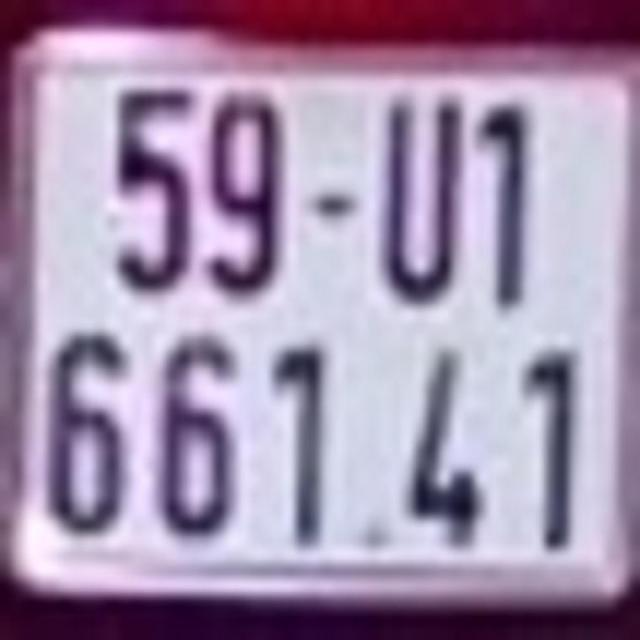1: (474, 95, 533, 312), (527, 333, 581, 558), (276, 332, 327, 542)
4: (414, 339, 494, 552)
5: (118, 85, 184, 292)
6: (46, 332, 126, 540), (164, 329, 234, 530)
9: (209, 82, 283, 303)
U: (382, 90, 465, 304)
